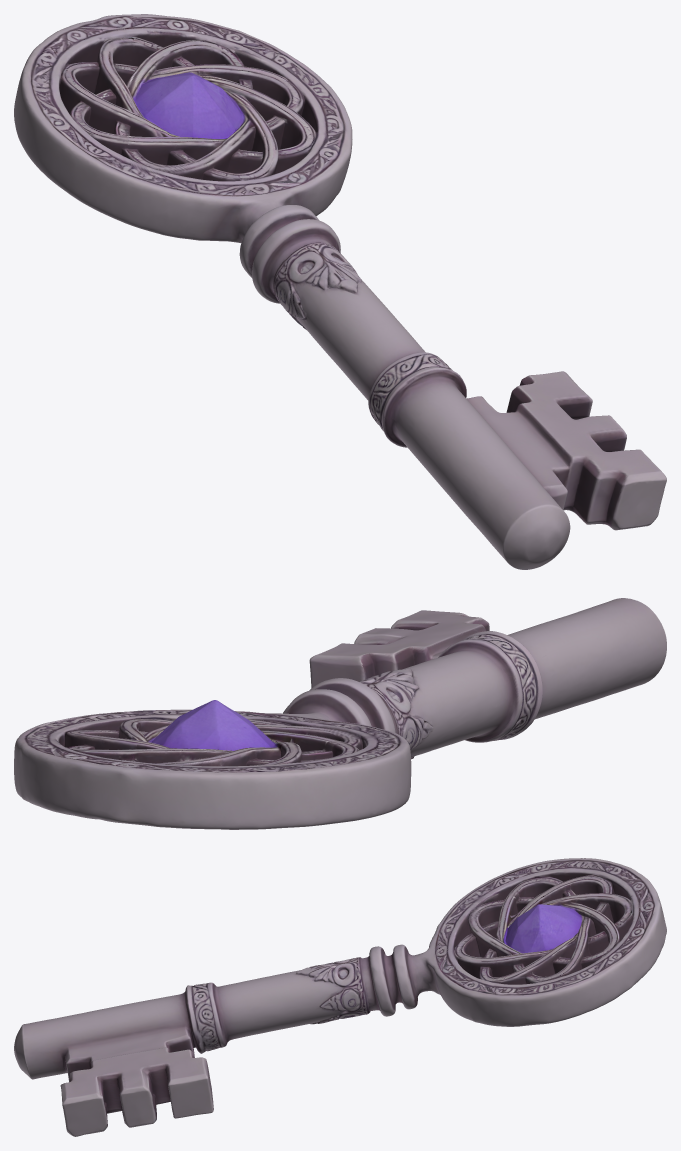
Rendered from key.glb.
3 views of the same model, one above another, from view 1: azimuth 30°, elevation 25°; view 2: azimuth 150°, elevation 25°; view 3: azimuth 270°, elevation 25° (orthographic). The views are drawn at different scales.
Visible parts, largest first — view 1: tripo_node_c6c36347-925e-4657-b0d0-c667e72d624c; view 2: tripo_node_c6c36347-925e-4657-b0d0-c667e72d624c; view 3: tripo_node_c6c36347-925e-4657-b0d0-c667e72d624c.
Part boxes in pixels (left/top/right/bottom): tripo_node_c6c36347-925e-4657-b0d0-c667e72d624c: left=14, top=14, right=666, bottom=569; tripo_node_c6c36347-925e-4657-b0d0-c667e72d624c: left=14, top=598, right=666, bottom=829; tripo_node_c6c36347-925e-4657-b0d0-c667e72d624c: left=14, top=858, right=666, bottom=1136.
Bounding box in the file's own units: 0.3907 × 0.3154 × 1.
1 material, 1 textured.
